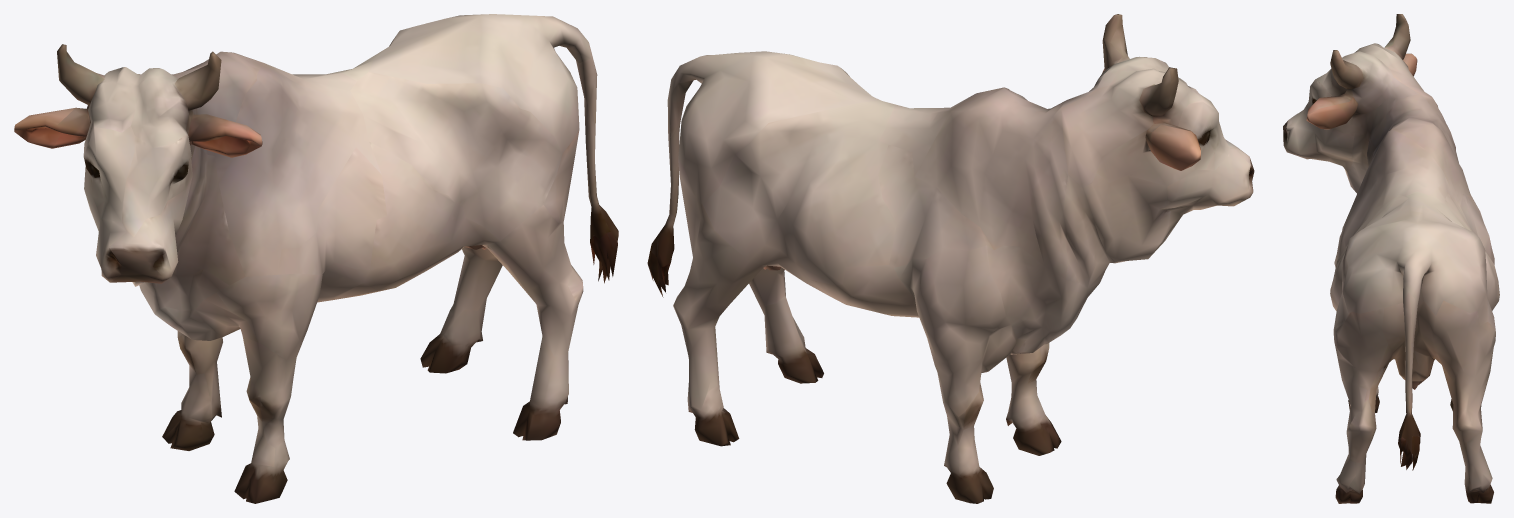
File: cow.glb
3 renders of one model, left to right at view 1: azimuth 30°, elevation 25°; view 2: azimuth 150°, elevation 25°; view 3: azimuth 270°, elevation 25°, orthographic. The views are drawn at different scales.
Visible parts, largest first — view 1: tripo_node_e3f7a786-0ee2-4f9d-965a-53bdc4d7e786; view 2: tripo_node_e3f7a786-0ee2-4f9d-965a-53bdc4d7e786; view 3: tripo_node_e3f7a786-0ee2-4f9d-965a-53bdc4d7e786.
Boxes of the visible parts, box(x1,y1,x2,y2) form: tripo_node_e3f7a786-0ee2-4f9d-965a-53bdc4d7e786: box(14, 14, 618, 503); tripo_node_e3f7a786-0ee2-4f9d-965a-53bdc4d7e786: box(647, 14, 1254, 503); tripo_node_e3f7a786-0ee2-4f9d-965a-53bdc4d7e786: box(1283, 14, 1499, 503).
Size of the model in its own units: 0.9816 by 0.7374 by 0.4297.
1 material, 1 textured.
